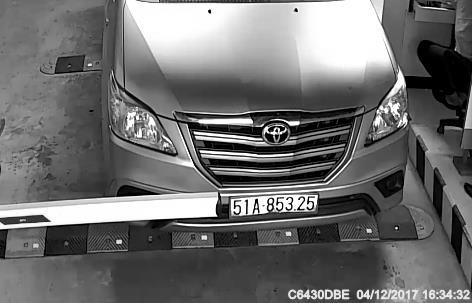License-plate: (224, 186, 325, 225)
